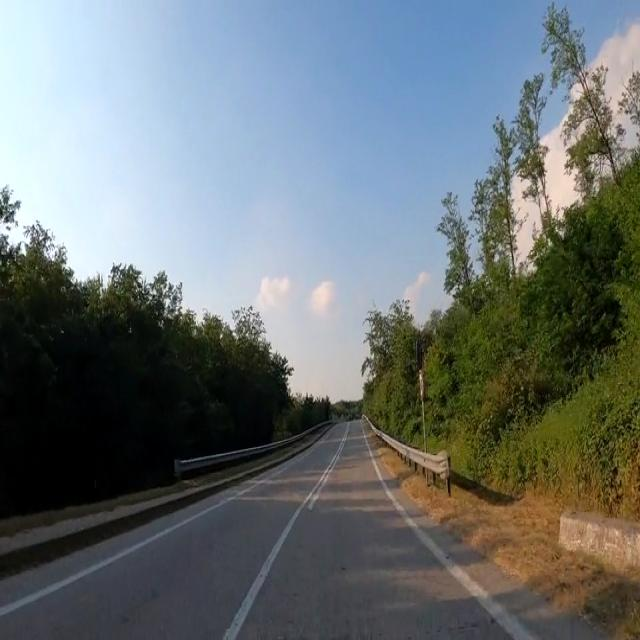lane: (362, 428, 534, 640), (0, 497, 234, 617), (223, 424, 349, 639)
road: (0, 421, 597, 638)
